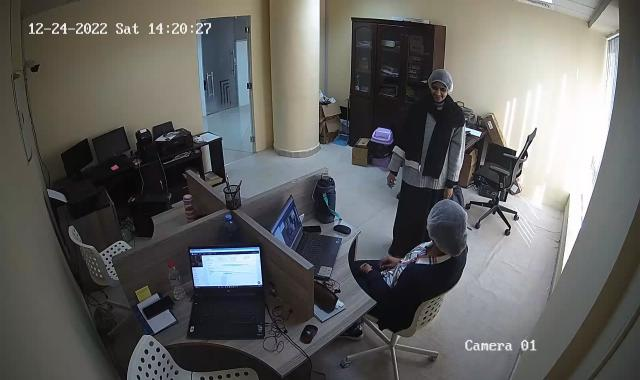hairnet: (428, 200, 471, 258), (428, 68, 453, 100)
